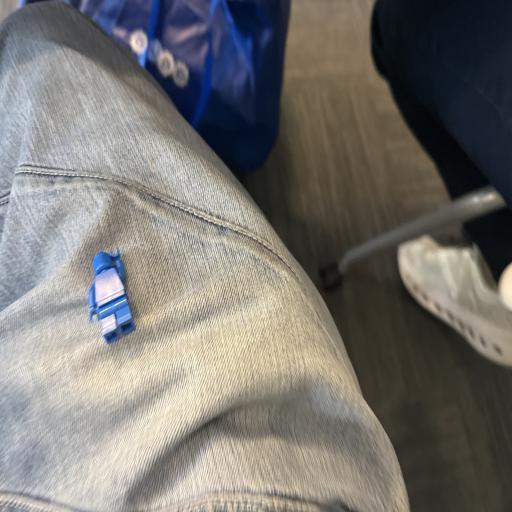Minifig: (88, 248, 135, 344)
